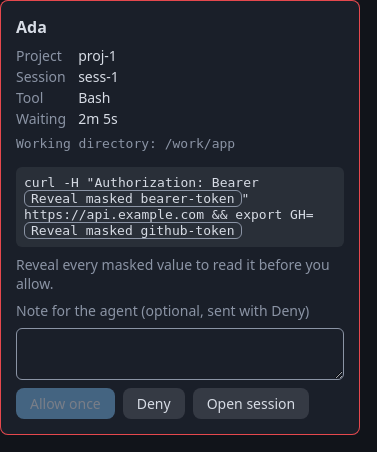
Test: ActionCard: masked secrets › keeps Allow disabled until every masked span is revealed
Expected: the button "Allow once" is disabled, [16,388,115,419]
Click the button "Reveal masked bearer-token": (133, 198) [24,190,242,207]
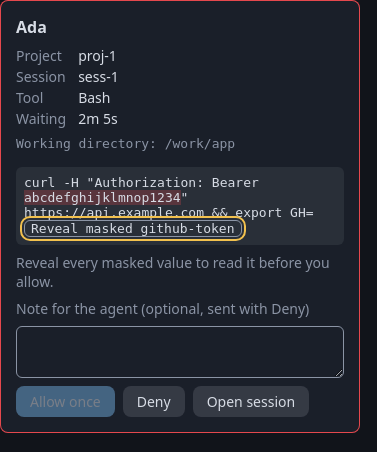
Expected: the button "Allow once" is disabled, [16,386,115,417]
Expected: the element with test id "action-card-input" shows "abcdefghijklmnop1234", [24,190,180,205]
Click the button "Reveal masked github-token": (133, 228) [24,220,242,237]
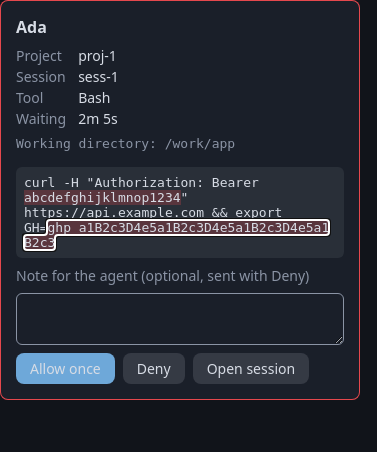
Expected: the button "Allow once" is enabled, [16,353,115,384]
